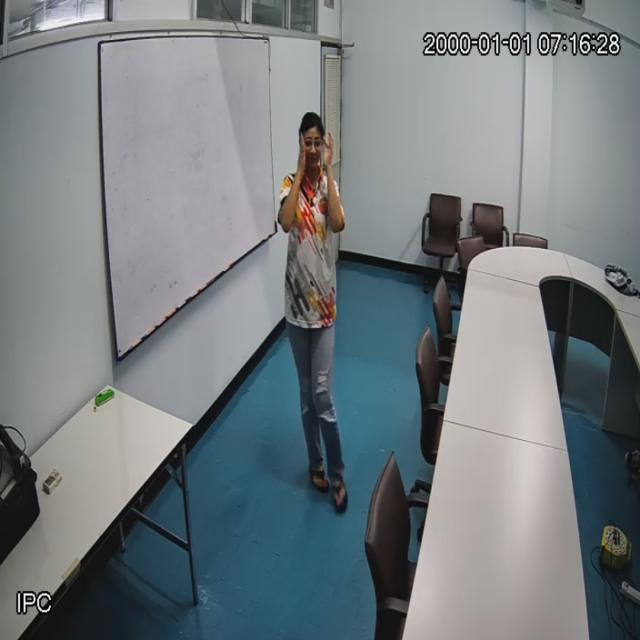normal: (276, 103, 354, 517)
